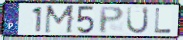1: (31, 6, 45, 33)
5: (76, 5, 97, 35)
L: (153, 7, 172, 35)
M: (43, 5, 77, 35)
P: (99, 6, 126, 35)
U: (125, 6, 150, 35)
